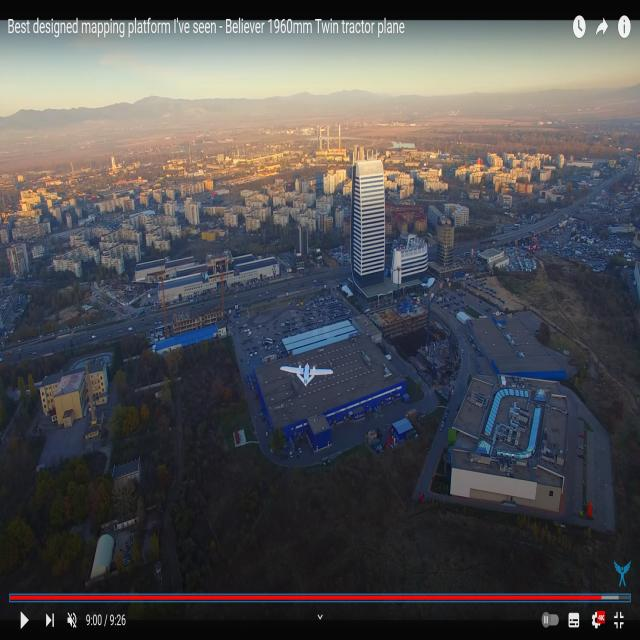iha: (281, 363, 334, 385)
